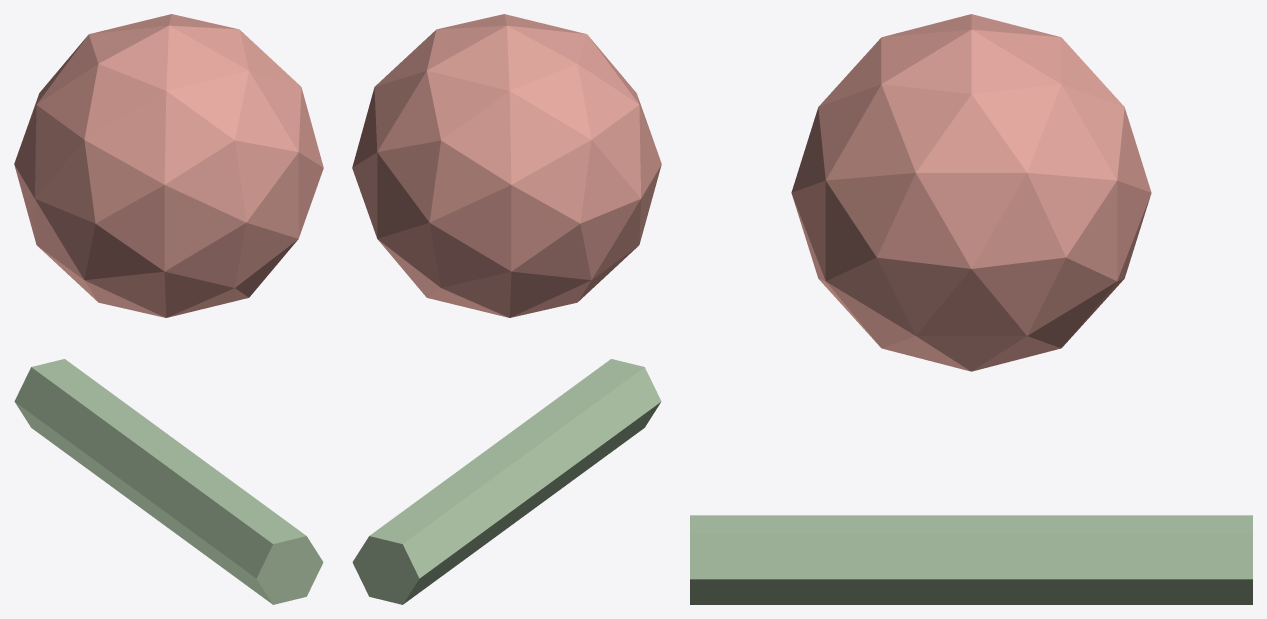
The model's file is flower_bed.glb.
3 renders of one model, left to right at view 1: azimuth 30°, elevation 25°; view 2: azimuth 150°, elevation 25°; view 3: azimuth 270°, elevation 25°, orthographic. The views are drawn at different scales.
Parts seen in each view (by area): view 1: p001, p000; view 2: p001, p000; view 3: p001, p000.
Boxes of the visible parts, left/top/right/bottom form: p001: left=14, top=14, right=323, bottom=317; p000: left=14, top=359, right=323, bottom=604; p001: left=352, top=14, right=661, bottom=317; p000: left=352, top=359, right=661, bottom=604; p001: left=791, top=14, right=1151, bottom=371; p000: left=690, top=515, right=1252, bottom=604.
Size of the model in its own units: 0.16 by 0.2773 by 0.25.
